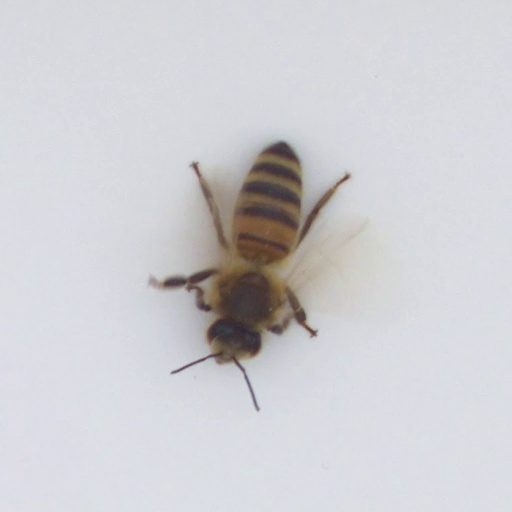Bee: (196, 132, 309, 364)
Thorax: (203, 256, 290, 333)
